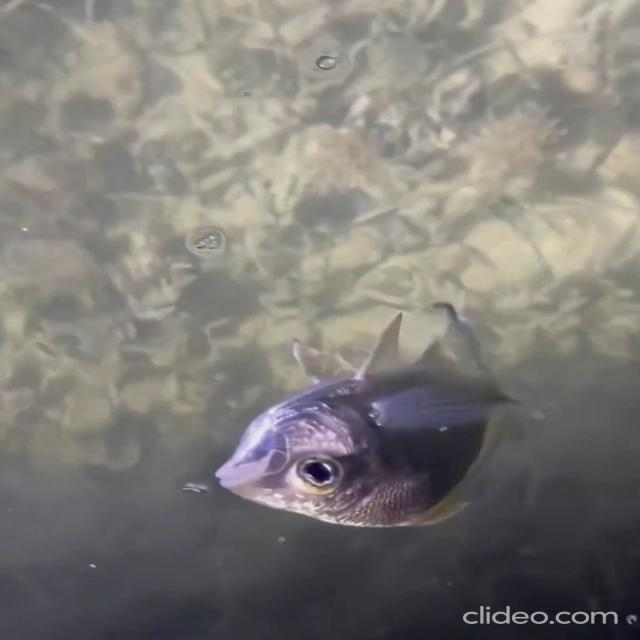fish: (184, 290, 566, 542)
